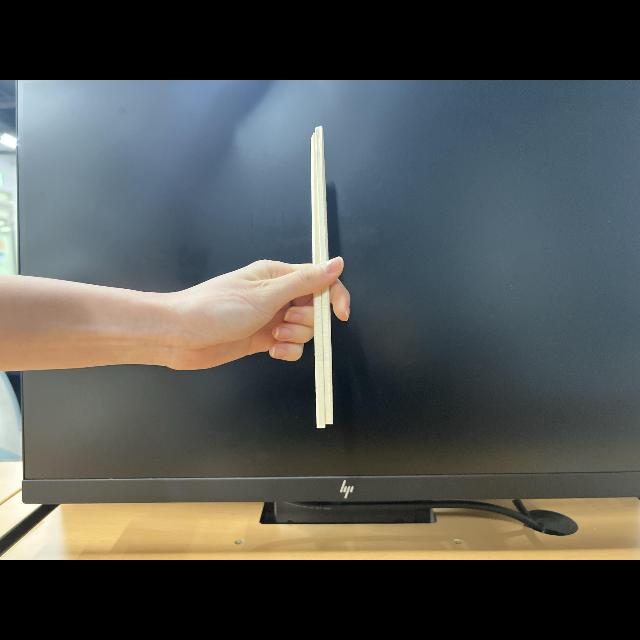stick: (251, 126, 347, 428)
